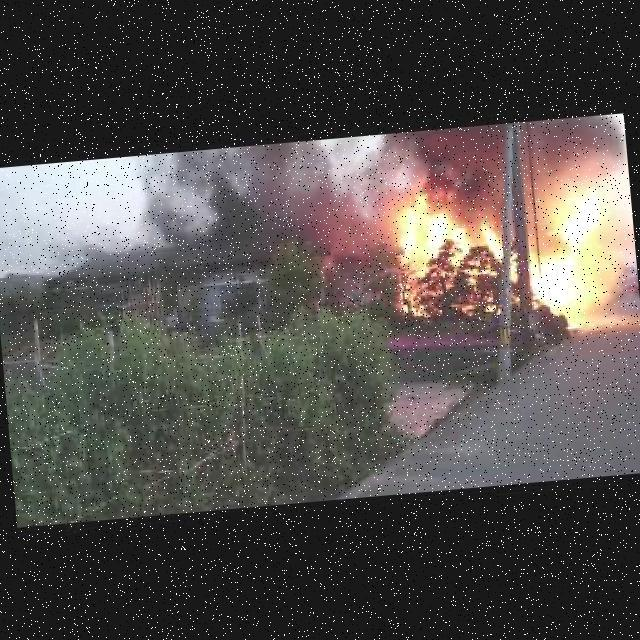Fire: (521, 178, 626, 333), (397, 281, 428, 319), (479, 292, 501, 316), (505, 253, 520, 284), (449, 301, 476, 317), (508, 289, 519, 306)
Smoke: (0, 133, 392, 287), (386, 189, 504, 292), (386, 125, 498, 204)
